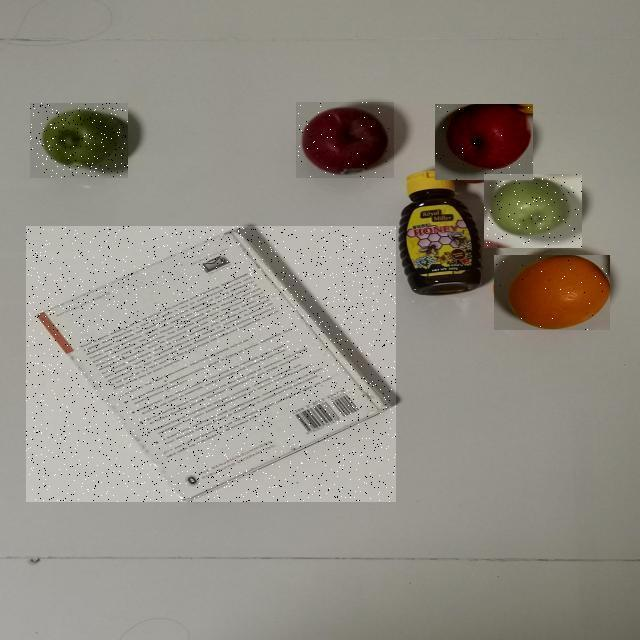apple: (193, 124, 640, 372), (168, 90, 640, 270), (99, 89, 493, 267), (0, 89, 94, 267)
orange: (189, 165, 640, 495)
